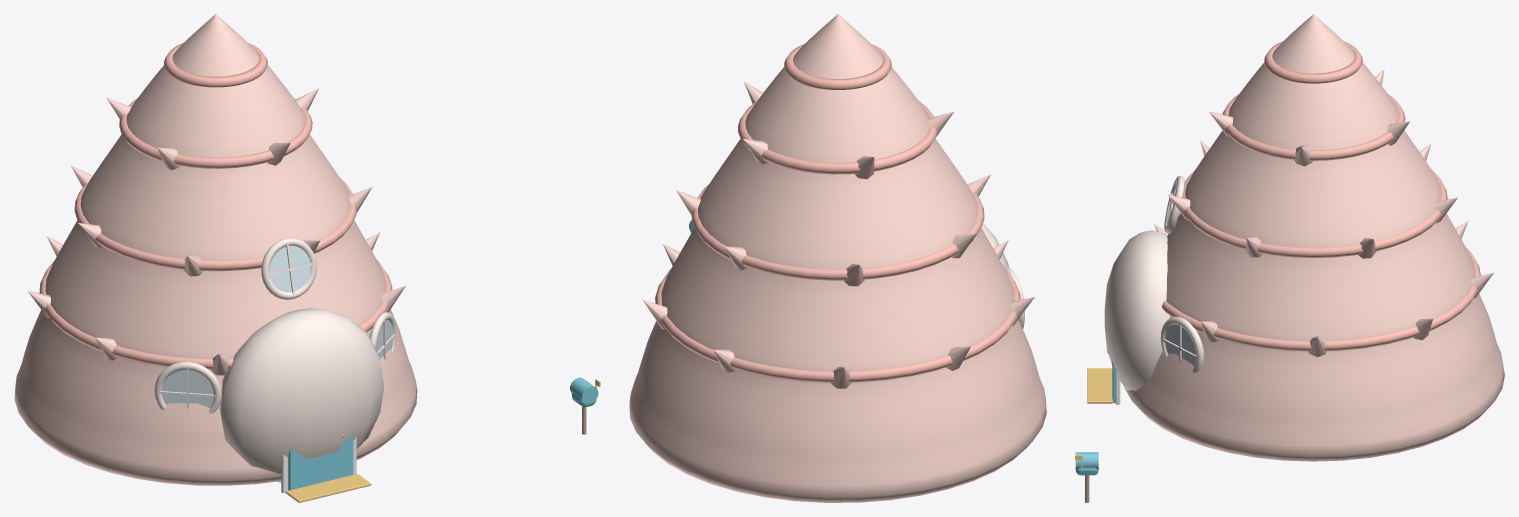
Rendered from building_ocean_L06.glb.
3 renders of one model, left to right at view 1: azimuth 30°, elevation 25°; view 2: azimuth 150°, elevation 25°; view 3: azimuth 270°, elevation 25°, orthographic. The views are drawn at different scales.
Parts seen in each view (by area): view 1: Body, ocean_L6; view 2: Body; view 3: Body, ocean_L6.
Part boxes in pixels (box(x1,y1,x2,y2)): Body: box(14, 14, 417, 502); ocean_L6: box(570, 377, 600, 434); Body: box(629, 14, 1046, 502); Body: box(1087, 14, 1504, 461); ocean_L6: box(1075, 452, 1098, 502).
Bounding box in the file's own units: 18.46 × 16.4 × 16.71.
